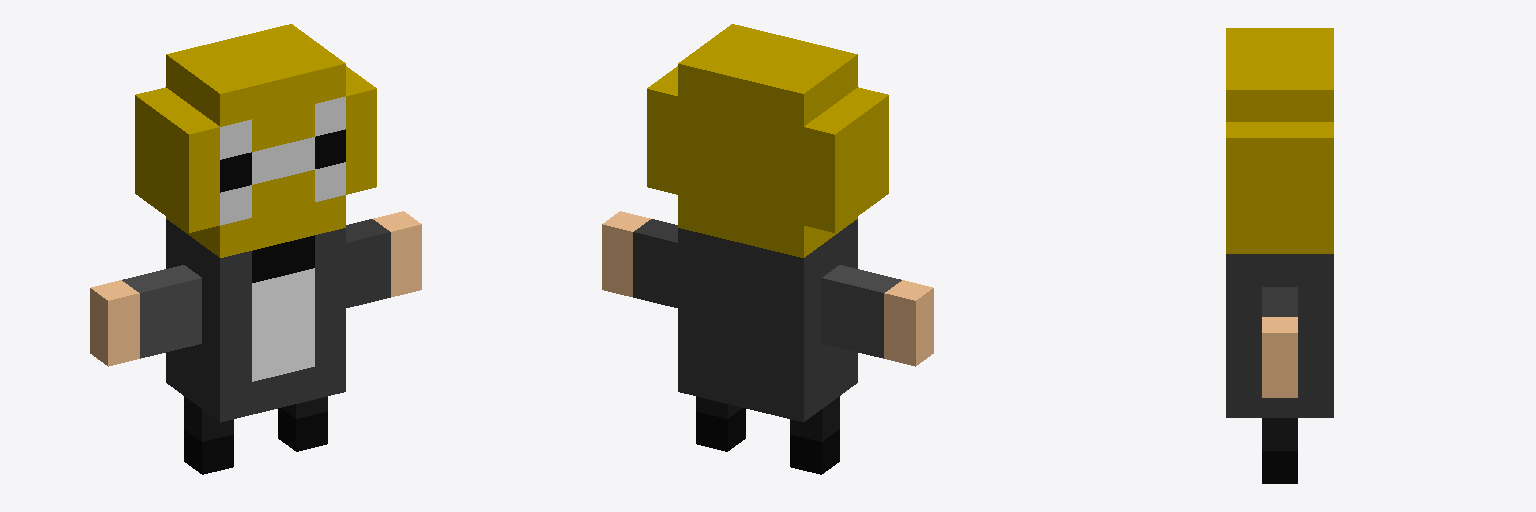
3 views of the same model, side by side, from view 1: azimuth 30°, elevation 25°; view 2: azimuth 150°, elevation 25°; view 3: azimuth 270°, elevation 25° (orthographic).
Visible parts, largest first — view 1: object 1; view 2: object 1; view 3: object 1.
Part boxes in pixels (x1,y1,x2,y2): object 1: (90,24,421,474); object 1: (602,24,933,474); object 1: (1226,28,1333,483).
Bounding box in the file's own units: 1 × 1.2 × 0.3.
Materials: 1 (1 with a texture image).